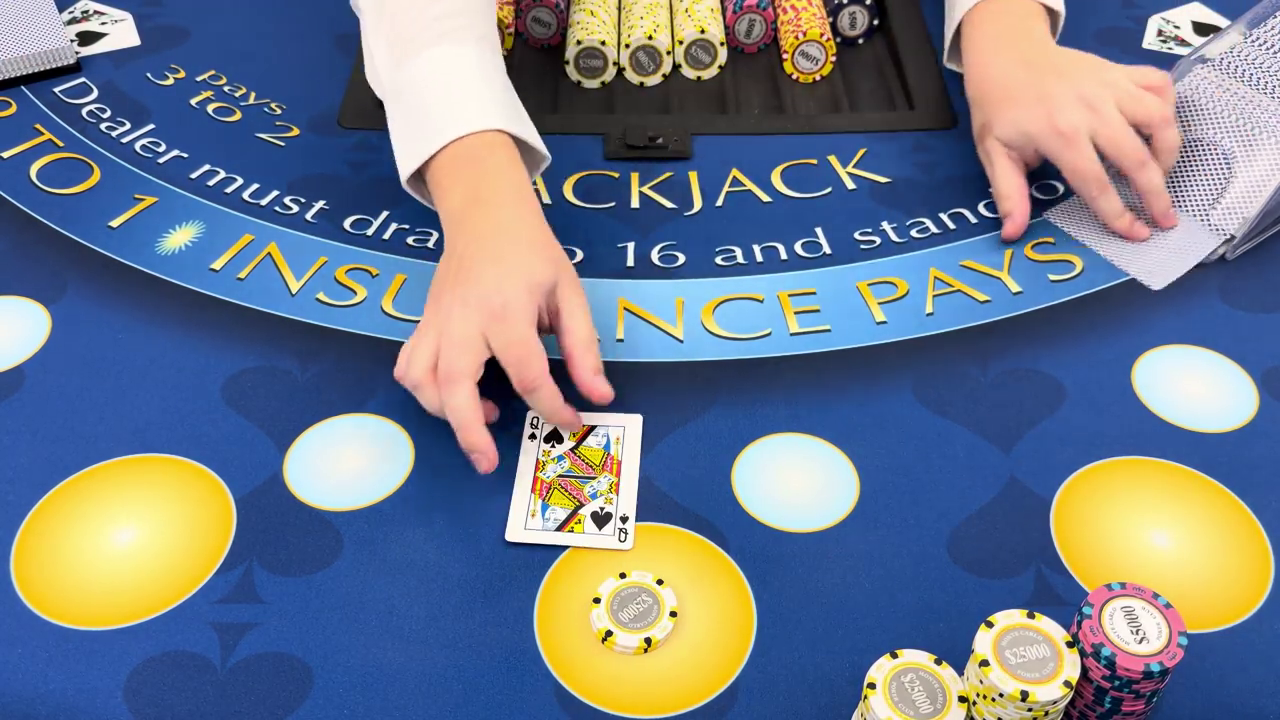QS: (616, 511, 633, 546), (525, 411, 540, 446)
